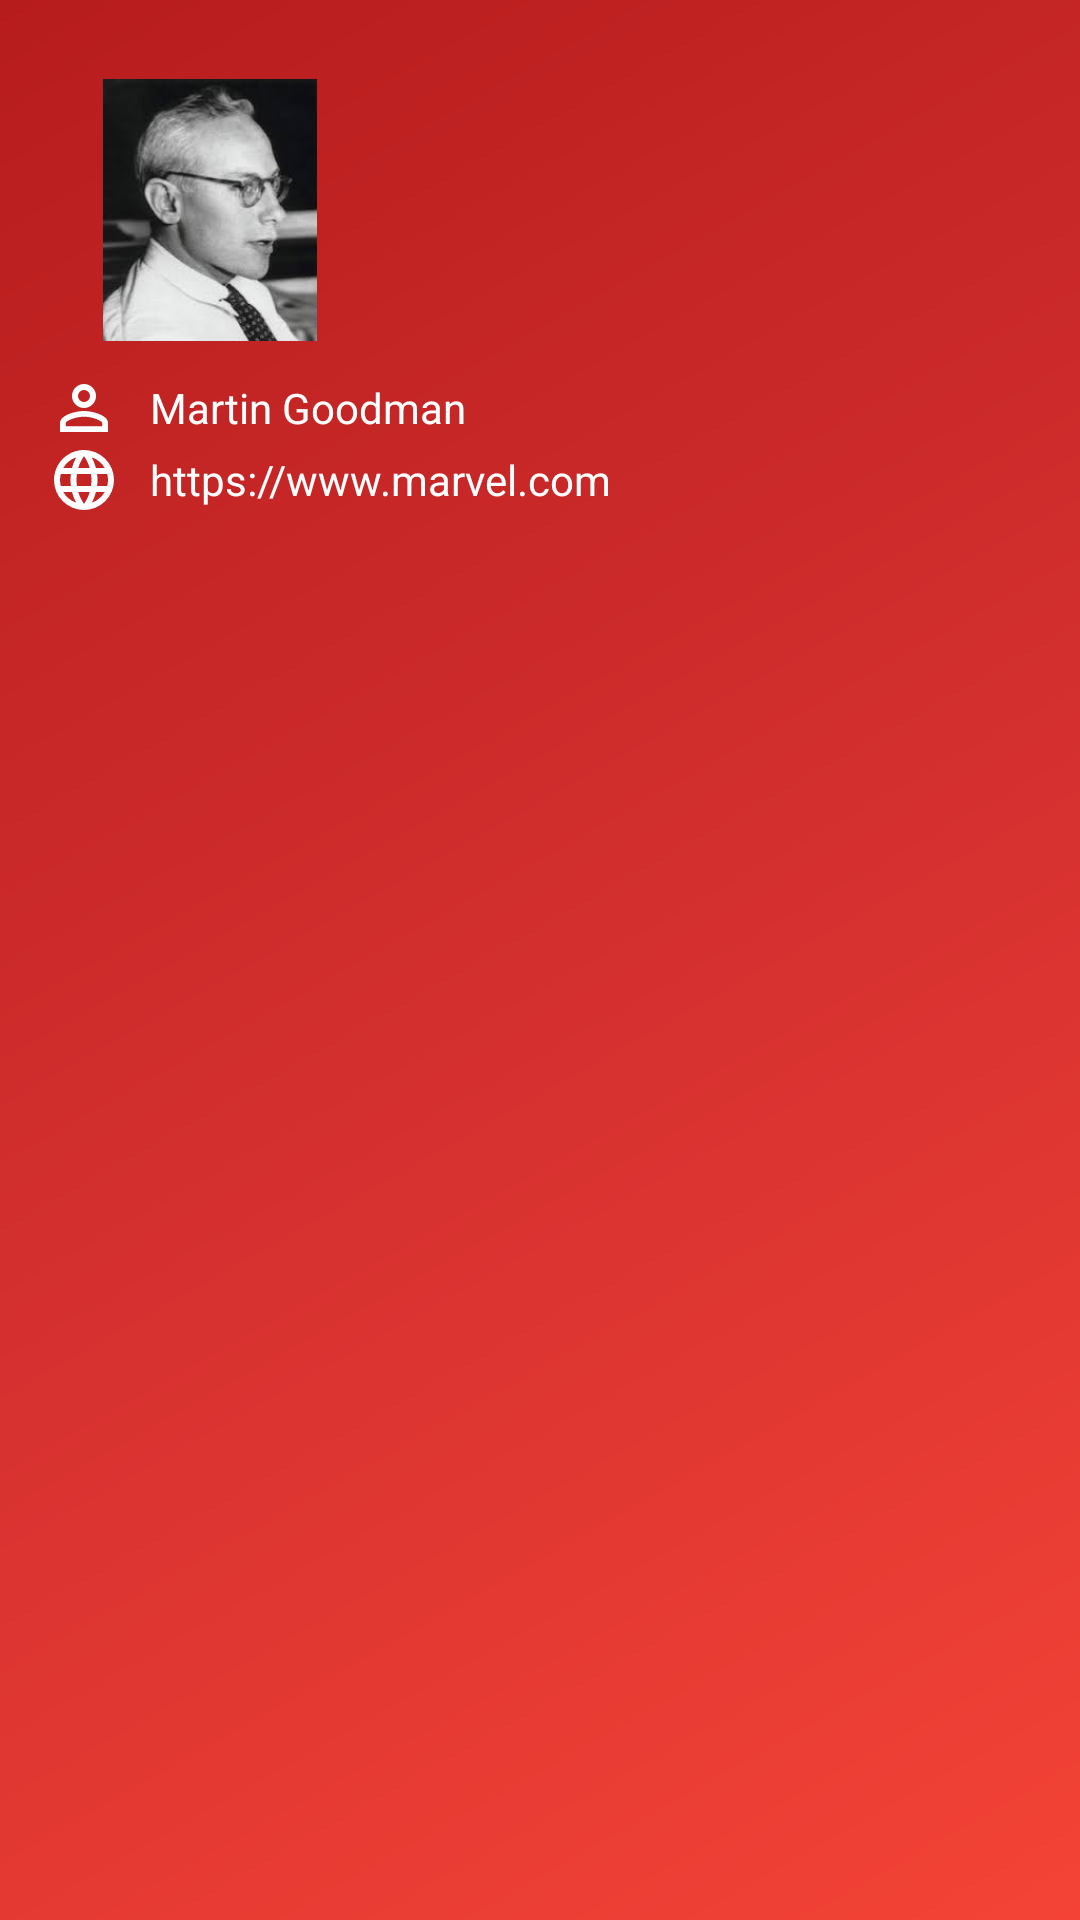

Named icons in this screenshot (1080px x 1920px) and their centers, point (x, y):
url: point (84, 480)
